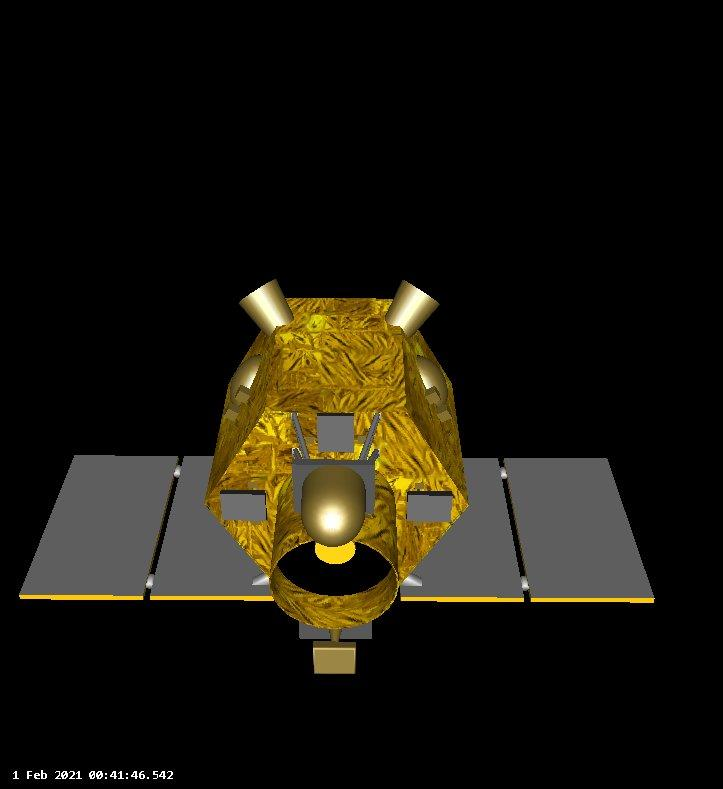antenna: (288, 403, 383, 547), (310, 626, 359, 678)
body: (202, 293, 473, 588)
solar: (16, 451, 279, 607), (393, 453, 659, 605)
thruster: (383, 281, 441, 340), (238, 276, 294, 336)
